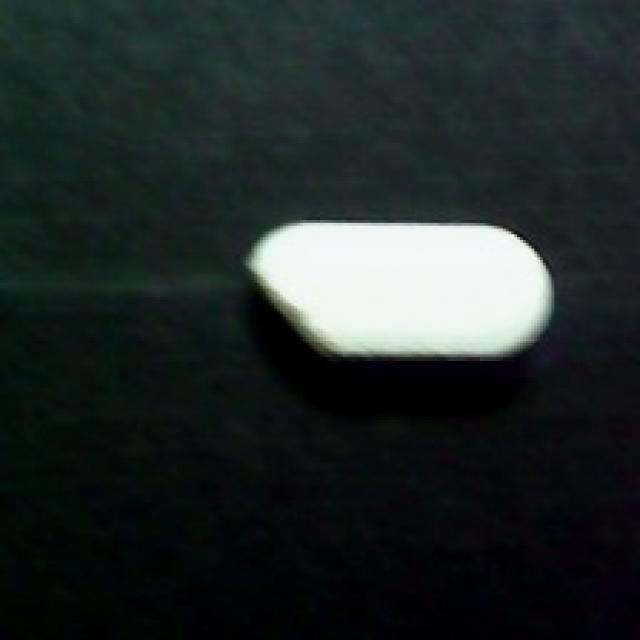defected: (234, 214, 563, 369)
